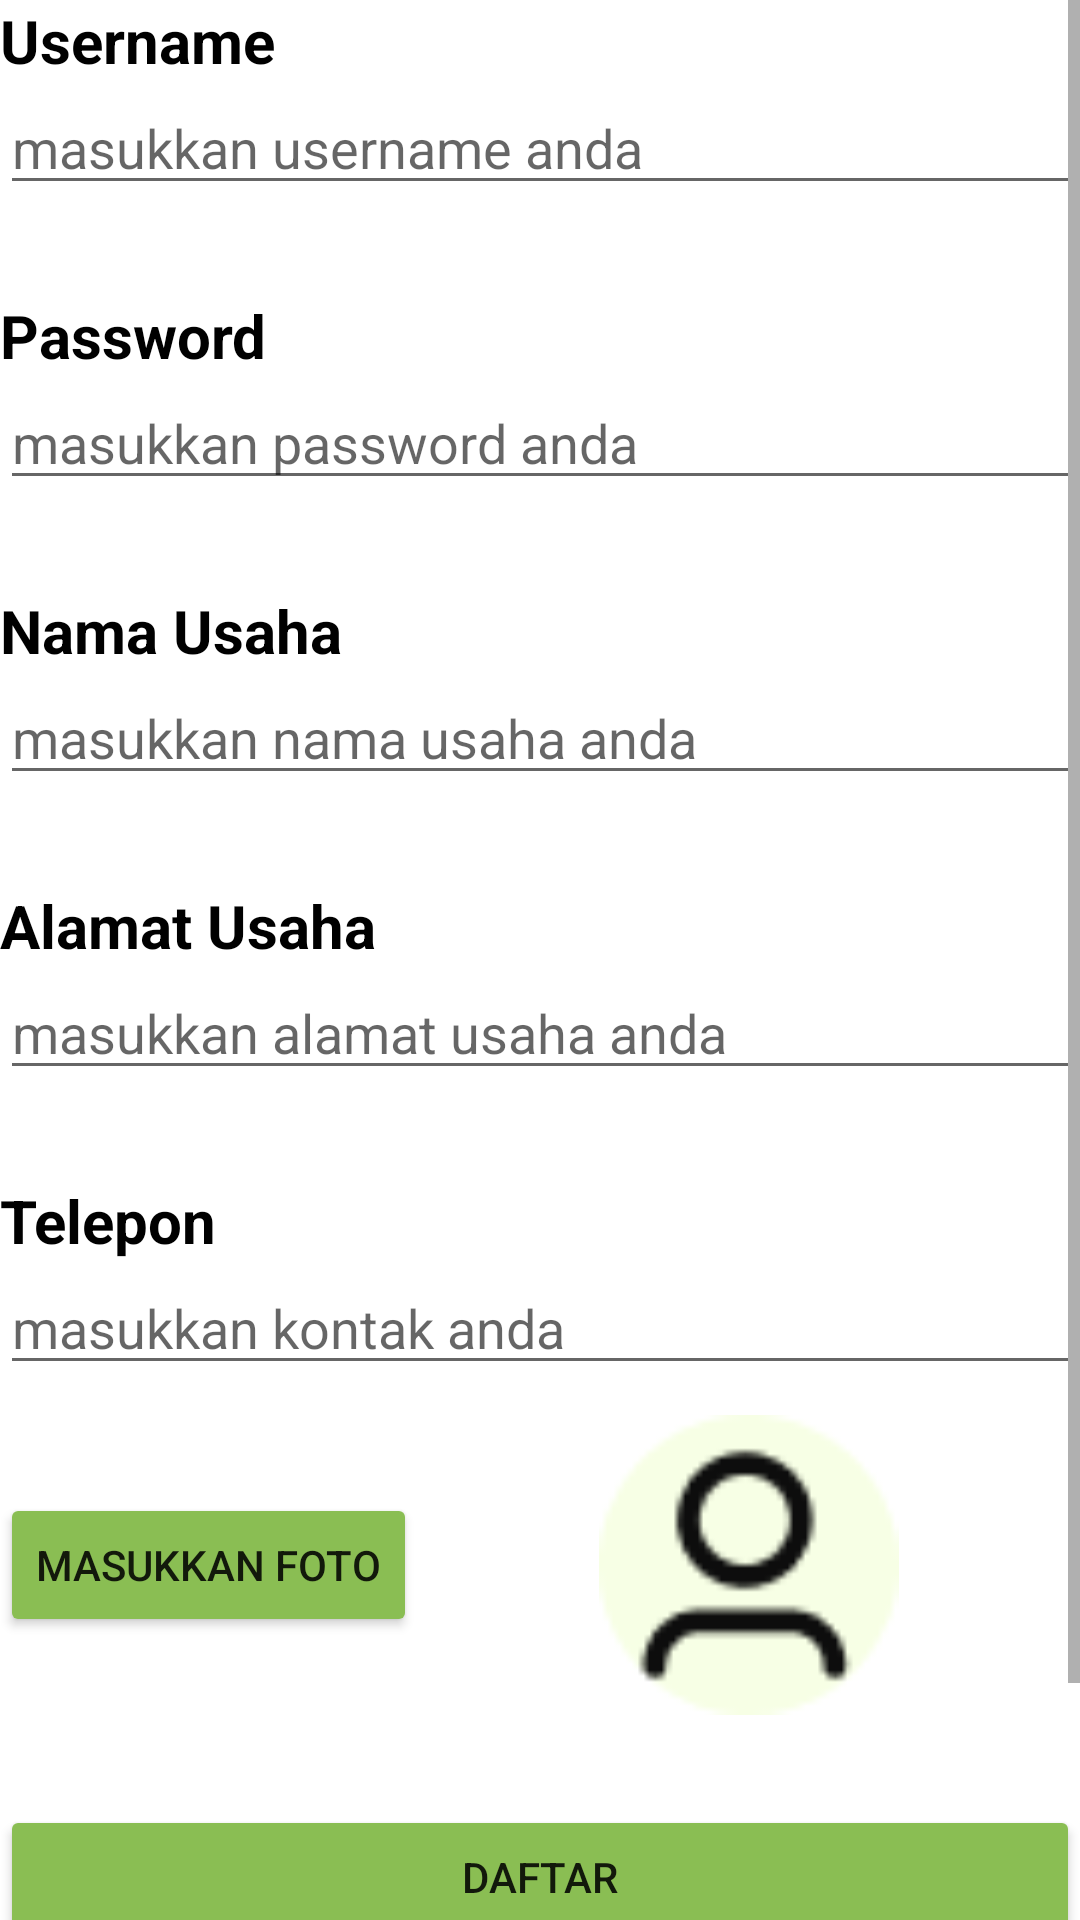

Named icons in this screenshot (1080 x 1920) and their bounding boxes, (x1, y1, x2, y2):
person: (599, 1415, 899, 1715)
